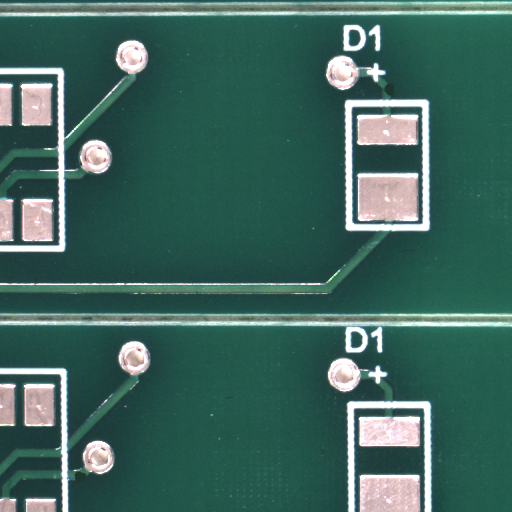Mouse_bite: (389, 89, 399, 102), (80, 477, 91, 487)
